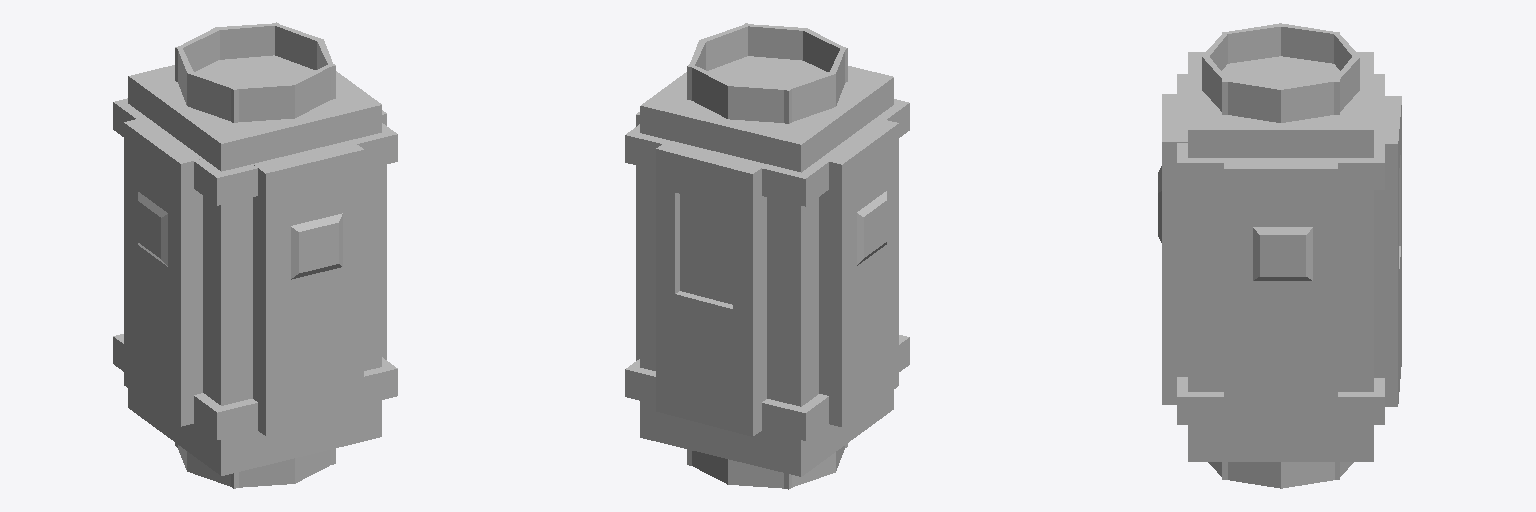
The model's file is entry_pod.obj.
The picture shows the model from 3 angles: view 1: azimuth 30°, elevation 25°; view 2: azimuth 150°, elevation 25°; view 3: azimuth 270°, elevation 25°; orthographic projection.
Visible parts, largest first — view 1: PodBody; view 2: PodBody; view 3: PodBody.
Boxes of the visible parts, x1=… form: PodBody: x1=113, y1=22, x2=397, y2=488; PodBody: x1=625, y1=23, x2=909, y2=489; PodBody: x1=1158, y1=23, x2=1401, y2=488.
Size of the model in its own units: 2.65 by 4.73 by 2.63.